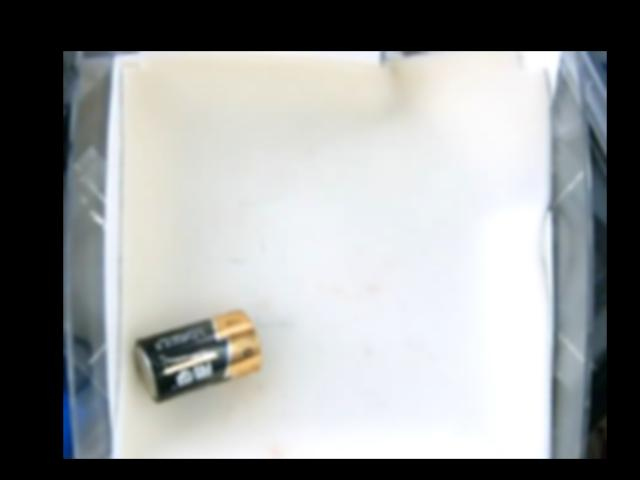Battery: (132, 307, 261, 401)
